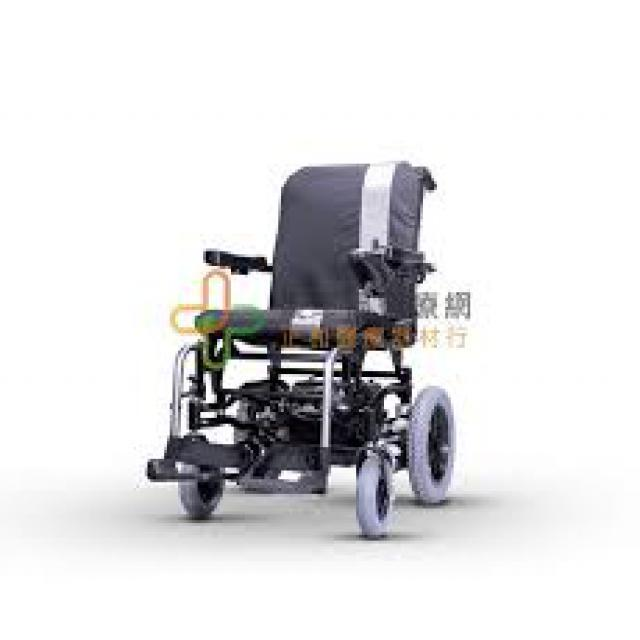wheelchair: (106, 143, 490, 558)
